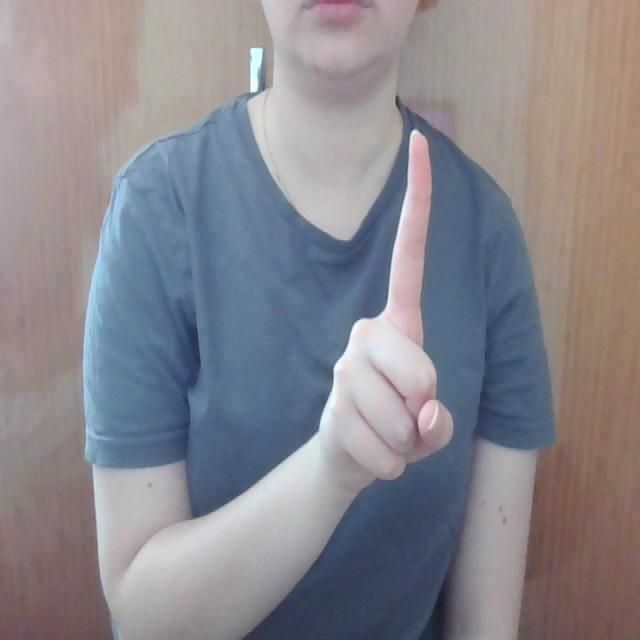Hayir: (312, 115, 468, 517)
